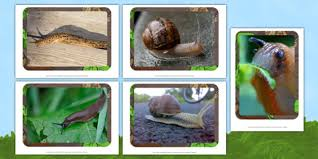slug: (249, 37, 298, 119), (28, 25, 108, 49), (58, 96, 106, 131)
snail: (144, 19, 204, 59), (142, 95, 209, 130)
